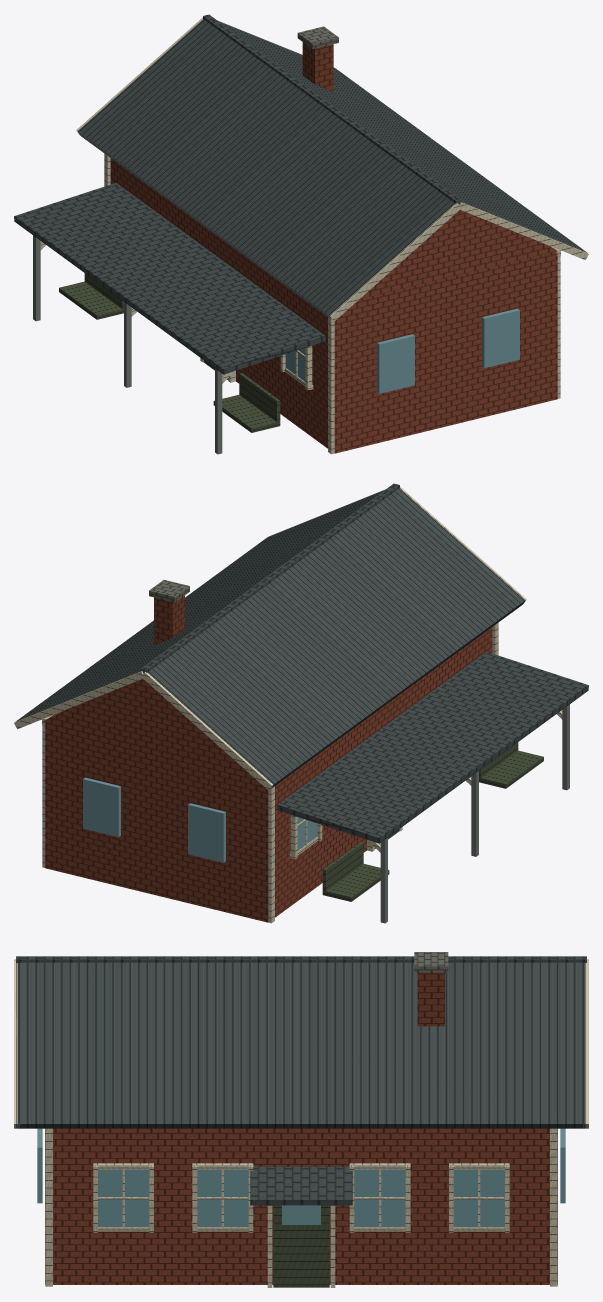
Rendered from norway-station-interwar_lod0.glb.
3 renders of one model, top to bottom at view 1: azimuth 30°, elevation 25°; view 2: azimuth 150°, elevation 25°; view 3: azimuth 270°, elevation 25°, orthographic. The views are drawn at different scales.
Visible parts, largest first — view 1: RF_Station_Roof-1, RF_Station_Body, RF_Station_Canopy, RF_Station_Roof1, RF_Station_Gable.001, RF_Station_Ridge, RF_Station_EndWindow.001, RF_Station_EndWindow.002, RF_Station_Vergeband.001, RF_Station_Bench, RF_Station_Chimney, RF_Station_Bench.001 (+8 smaller); view 2: RF_Station_Roof-1, RF_Station_Body, RF_Station_Canopy, RF_Station_Roof1, RF_Station_Gable, RF_Station_Ridge, RF_Station_EndWindow.003, RF_Station_EndWindow, RF_Station_Vergeband.002, RF_Station_Bench.001, RF_Station_Chimney, RF_Station_Bench (+8 smaller); view 3: RF_Station_Roof1, RF_Station_Body, RF_Station_PublicAwning, RF_Station_Door, RF_Station_Ridge, RF_Station_Window.006, RF_Station_Window.007, RF_Station_Window.005, RF_Station_Window, RF_Station_Chimney, RF_Station_Corner.003, RF_Station_Corner (+8 smaller).
Part boxes in pixels (<box>): RF_Station_Roof-1: <box>78,19,454,318</box>; RF_Station_Body: <box>110,158,557,453</box>; RF_Station_Canopy: <box>14,182,325,374</box>; RF_Station_Roof1: <box>218,21,586,252</box>; RF_Station_Gable.001: <box>360,210,556,298</box>; RF_Station_Ridge: <box>203,14,462,204</box>; RF_Station_EndWindow.001: <box>377,334,414,393</box>; RF_Station_EndWindow.002: <box>482,308,519,368</box>; RF_Station_Vergeband.001: <box>329,203,461,321</box>; RF_Station_Bench: <box>59,281,123,319</box>; RF_Station_Chimney: <box>302,42,333,91</box>; RF_Station_Bench.001: <box>213,395,280,432</box>; RF_Station_Roof-1: <box>148,488,524,787</box>; RF_Station_Body: <box>45,627,492,922</box>; RF_Station_Canopy: <box>277,651,588,843</box>; RF_Station_Roof1: <box>16,490,384,721</box>; RF_Station_Gable: <box>43,679,246,771</box>; RF_Station_Ridge: <box>140,483,399,673</box>; RF_Station_EndWindow.003: <box>188,803,225,862</box>; RF_Station_EndWindow: <box>83,777,120,837</box>; RF_Station_Vergeband.002: <box>141,672,273,790</box>; RF_Station_Bench.001: <box>479,750,543,788</box>; RF_Station_Chimney: <box>154,595,184,645</box>; RF_Station_Bench: <box>322,864,389,901</box>; RF_Station_Roof1: <box>17,962,585,1128</box>; RF_Station_Body: <box>45,1128,557,1284</box>; RF_Station_PublicAwning: <box>250,1166,352,1205</box>; RF_Station_Door: <box>273,1205,329,1287</box>; RF_Station_Ridge: <box>16,956,586,962</box>; RF_Station_Window.006: <box>197,1169,248,1226</box>; RF_Station_Window.007: <box>354,1169,405,1226</box>; RF_Station_Window.005: <box>98,1169,149,1226</box>; RF_Station_Window: <box>453,1169,504,1226</box>; RF_Station_Chimney: <box>417,972,444,1026</box>; RF_Station_Corner.003: <box>45,1128,52,1286</box>; RF_Station_Corner: <box>550,1128,557,1286</box>.
Size of the model in its own units: 14.23 by 9.3 by 16.82.
8 materials, 6 textured.
